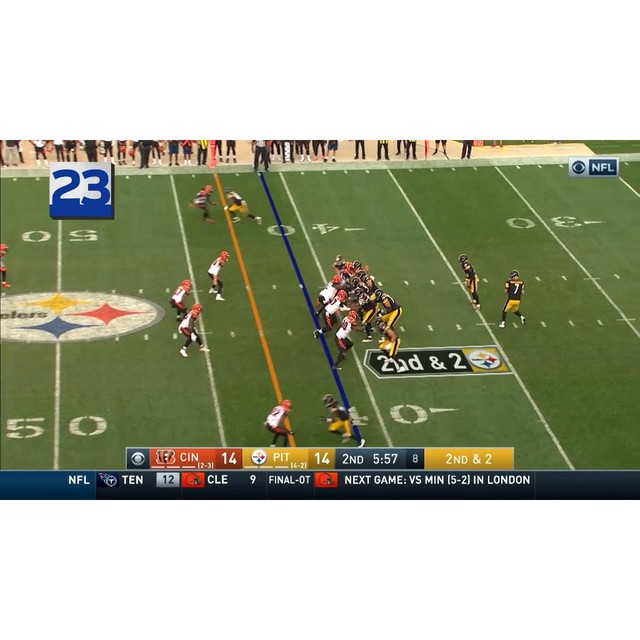american-football-player: (322, 394, 364, 446), (313, 289, 350, 339), (177, 303, 209, 358), (332, 309, 360, 370), (498, 270, 525, 329), (263, 399, 295, 446), (376, 318, 402, 372), (224, 188, 261, 225), (459, 253, 482, 309), (315, 274, 344, 318), (374, 288, 403, 328), (207, 251, 230, 301), (189, 184, 218, 223), (355, 290, 377, 340), (169, 280, 192, 320), (0, 244, 11, 289)
